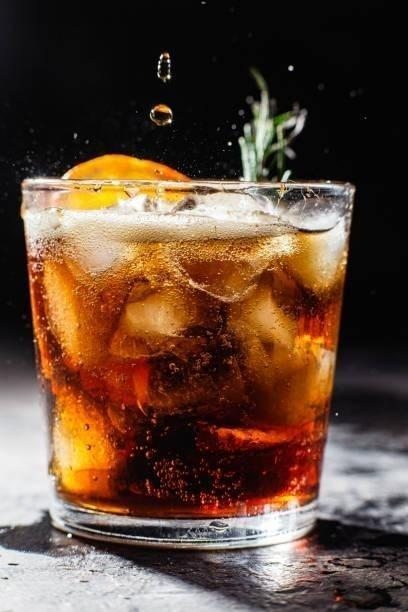glass-normal: (18, 171, 357, 553)
